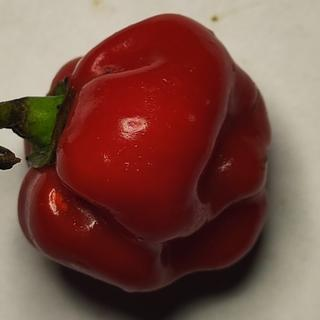Grade-B: (15, 10, 278, 296)
